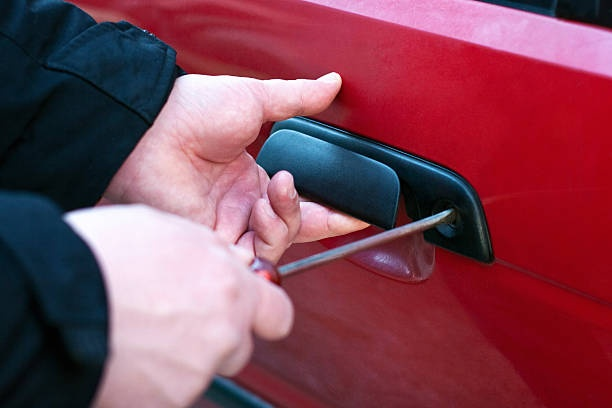screwdriver: (196, 207, 460, 286)
